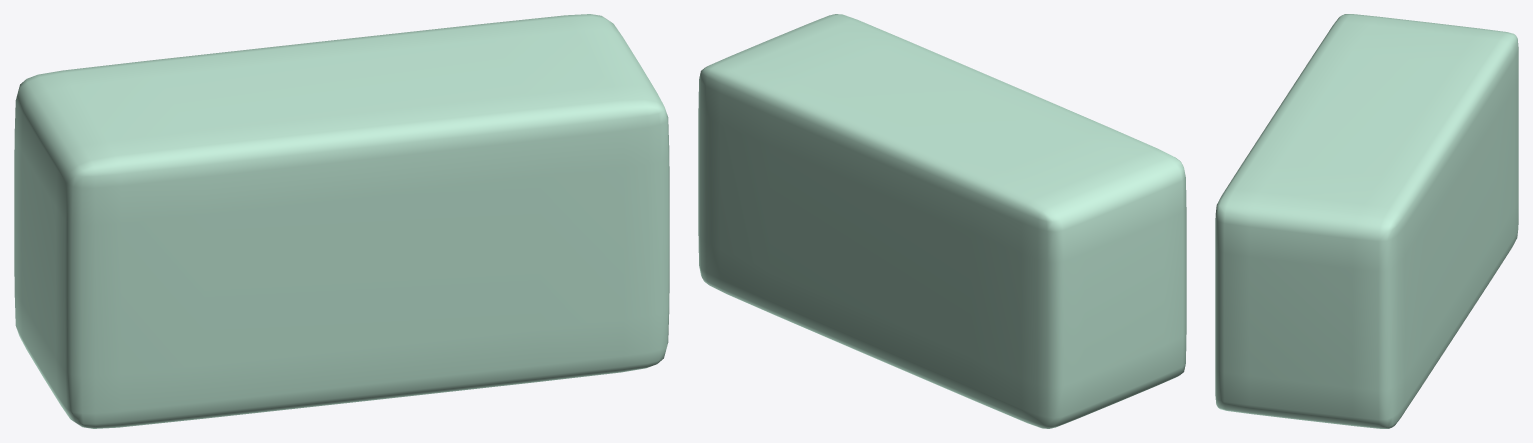
File: PROP_Hedge_v0.glb
The picture shows the model from 3 angles, left to right: view 1: azimuth 30°, elevation 25°; view 2: azimuth 150°, elevation 25°; view 3: azimuth 270°, elevation 25°; orthographic projection. The views are drawn at different scales.
Parts seen in each view (by area): view 1: PROP_Hedge_v0; view 2: PROP_Hedge_v0; view 3: PROP_Hedge_v0.
Part boxes in pixels (x1,y1,x2,y2): PROP_Hedge_v0: [14, 14, 669, 428]; PROP_Hedge_v0: [698, 14, 1186, 428]; PROP_Hedge_v0: [1215, 14, 1518, 428].
Size of the model in its own units: 1.28 by 0.5837 by 0.7464.
